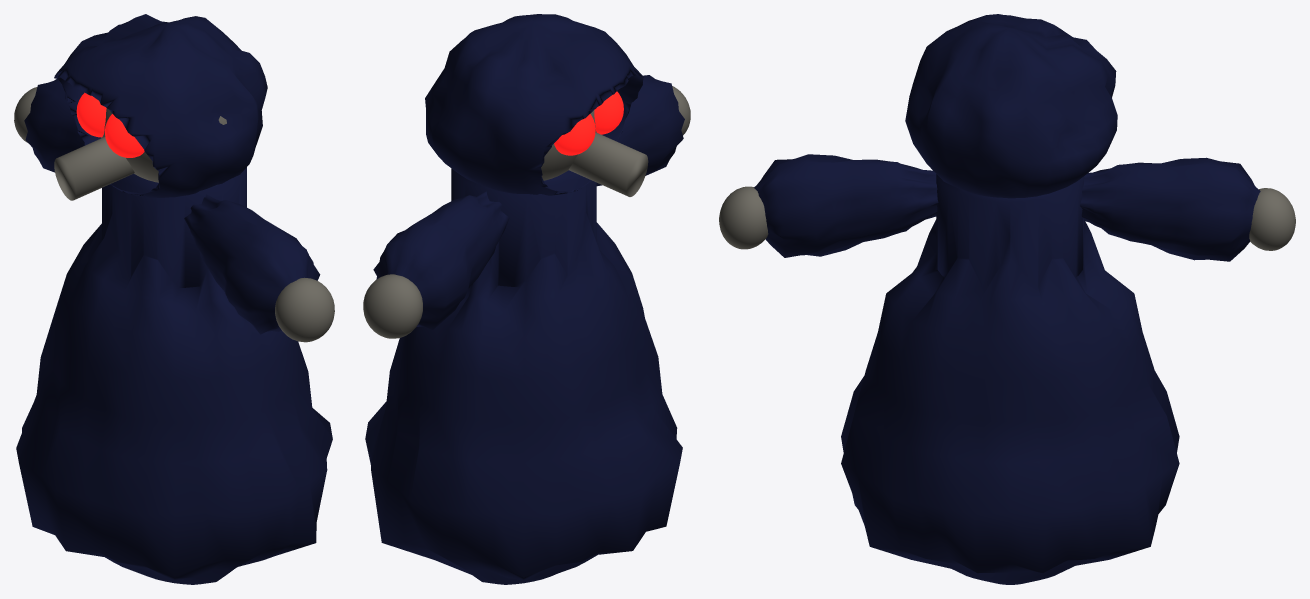
Rendered from enemy.glb.
3 renders of one model, left to right at view 1: azimuth 30°, elevation 25°; view 2: azimuth 150°, elevation 25°; view 3: azimuth 270°, elevation 25°, orthographic.
Visible parts, largest first — view 1: Sphere, Sphere.008, Sphere.004, Sphere.001, Cylinder, Sphere.003, Sphere.007, Sphere.006, Sphere.005, Sphere.002; view 2: Sphere, Sphere.008, Sphere.001, Sphere.004, Sphere.002, Cylinder, Sphere.006, Sphere.007, Sphere.005; view 3: Sphere, Sphere.008, Sphere.004, Sphere.001, Sphere.003, Sphere.002.
Part boxes in pixels (x1,y1,x2,y2): Sphere: (16, 167, 332, 584); Sphere.008: (54, 14, 267, 197); Sphere.004: (184, 194, 320, 334); Sphere.001: (24, 78, 84, 172); Cylinder: (54, 137, 134, 200); Sphere.003: (275, 277, 334, 342); Sphere.007: (105, 114, 144, 157); Sphere.006: (76, 92, 106, 137); Sphere.005: (101, 108, 226, 182); Sphere.002: (14, 87, 37, 142); Sphere: (365, 168, 682, 584); Sphere.008: (425, 14, 643, 195); Sphere.001: (373, 191, 509, 329); Sphere.004: (596, 75, 684, 186); Sphere.002: (363, 274, 422, 338); Cylinder: (568, 132, 648, 196); Sphere.006: (554, 114, 595, 155); Sphere.007: (594, 91, 623, 134); Sphere.005: (541, 110, 596, 180); Sphere: (841, 174, 1179, 584); Sphere.008: (905, 14, 1117, 198); Sphere.004: (754, 154, 938, 257); Sphere.001: (1080, 157, 1260, 261); Sphere.003: (719, 186, 768, 249); Sphere.002: (1249, 188, 1295, 250).
Bounding box in the file's own units: 2.67 × 5.14 × 4.91.
